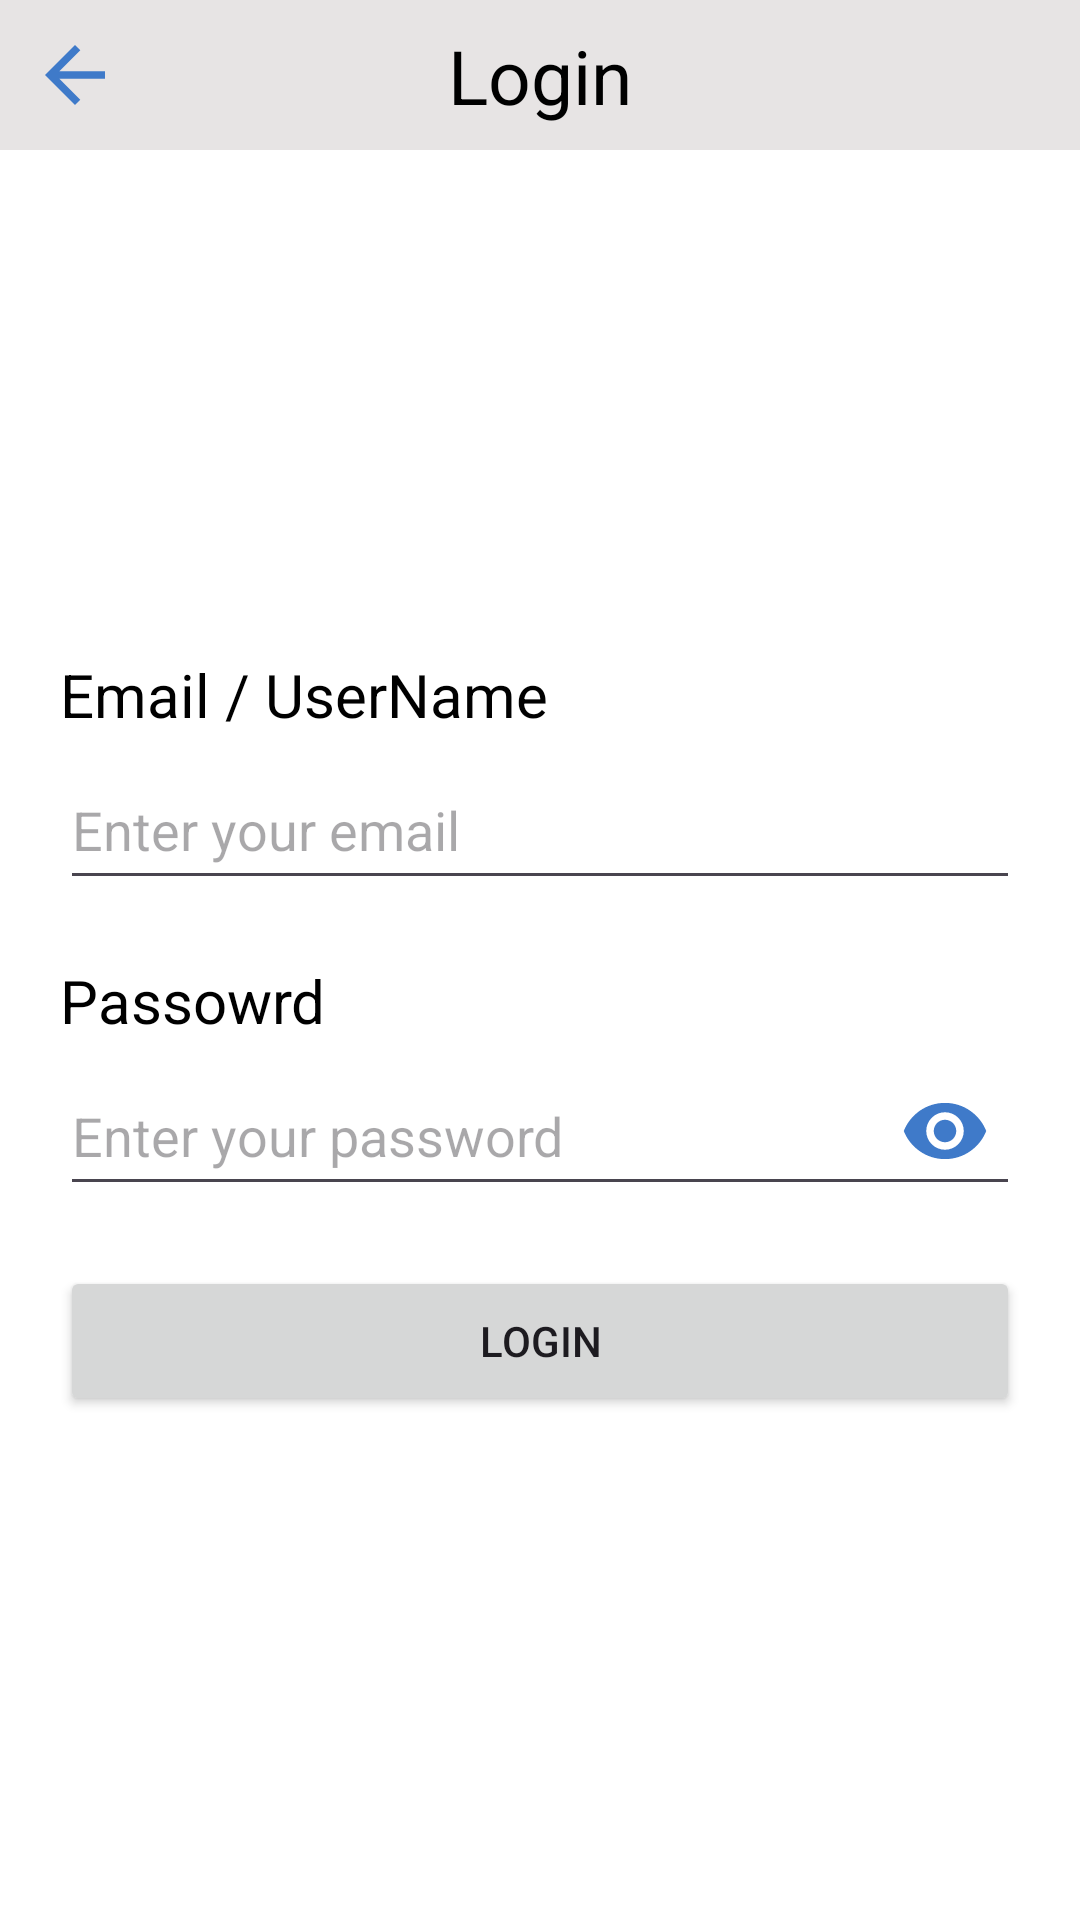

Named icons in this screenshot (1080px×1920px) and their centers, (x=x, y=y):
arrow back: (x=75, y=75)
remove eye: (x=945, y=1131)
